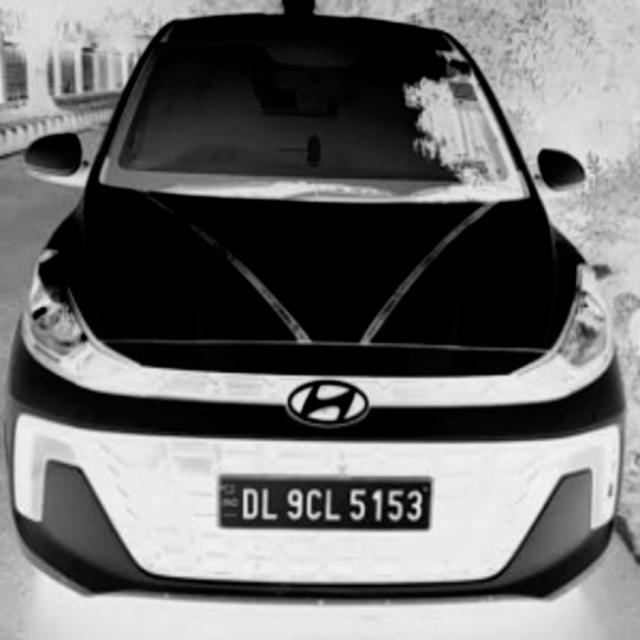1: (370, 485, 387, 528)
3: (406, 487, 423, 526)
5: (347, 485, 371, 525), (386, 488, 407, 524)
9: (285, 486, 304, 522)
C: (306, 485, 324, 525)
D: (243, 486, 262, 522)
IND: (220, 480, 240, 514)
Indian_registered: (219, 475, 433, 532)
L: (260, 485, 282, 523), (323, 487, 344, 526)
